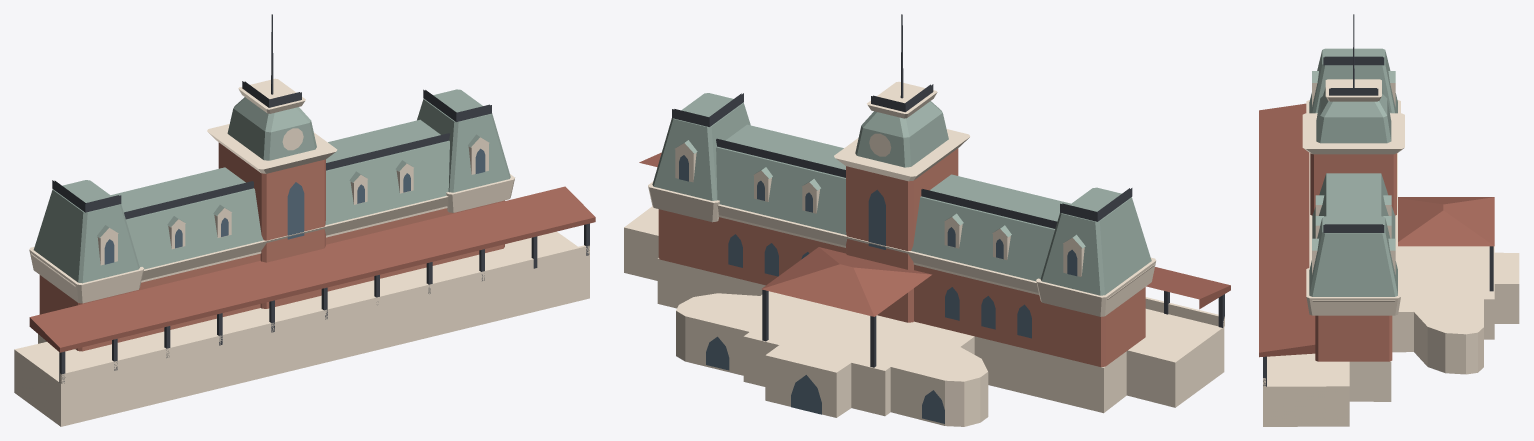
Rendered from wdw-main-street-station.glb.
3 renders of one model, left to right at view 1: azimuth 30°, elevation 25°; view 2: azimuth 150°, elevation 25°; view 3: azimuth 270°, elevation 25°, orthographic. The views are drawn at different scales.
Visible parts, largest first — view 1: Main Street, U.S.A. Station; view 2: Main Street, U.S.A. Station; view 3: Main Street, U.S.A. Station.
Part boxes in pixels (x1,y1,x2,y2): Main Street, U.S.A. Station: (14, 14, 595, 426); Main Street, U.S.A. Station: (624, 14, 1230, 426); Main Street, U.S.A. Station: (1259, 14, 1519, 426).
Bounding box in the file's own units: 58.2 × 32.6 × 26.45.
